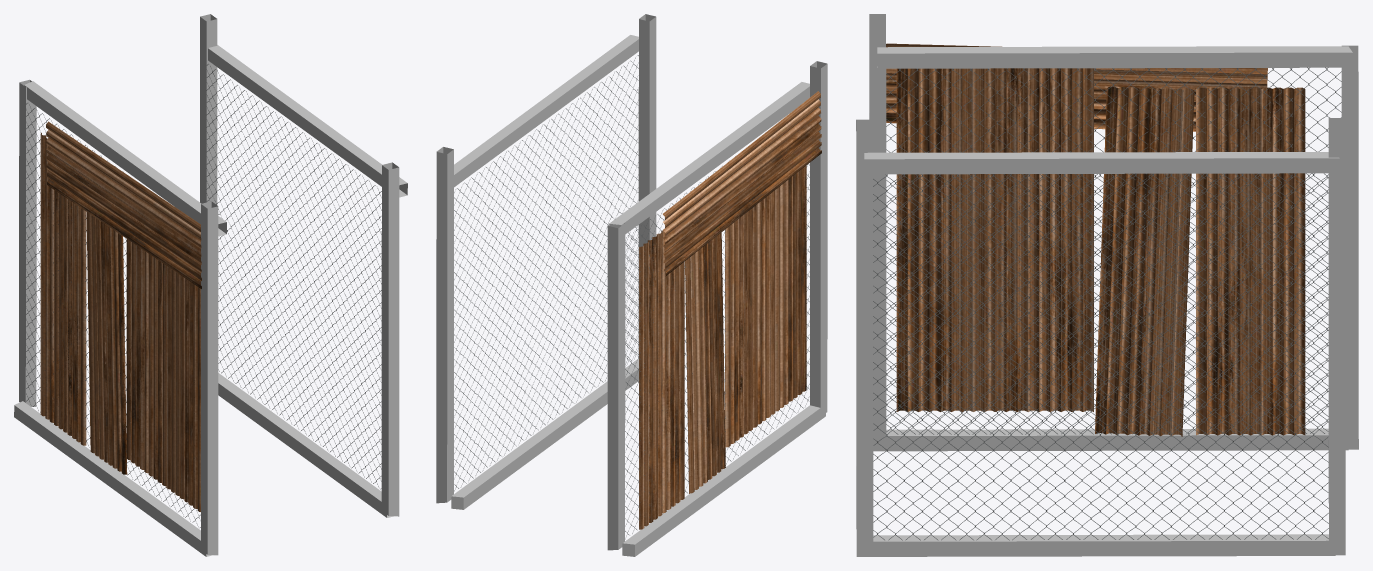
The model's file is Fence.fbx.
3 views of the same model, side by side, from view 1: azimuth 30°, elevation 25°; view 2: azimuth 150°, elevation 25°; view 3: azimuth 270°, elevation 25° (orthographic). The views are drawn at different scales.
Parts seen in each view (by area): view 1: Group1, Group2; view 2: Group1, Group2; view 3: Group1, Group2.
Part boxes in pixels (<box>): Group1: <box>14,79,226,556</box>; Group2: <box>200,14,407,517</box>; Group1: <box>607,61,827,556</box>; Group2: <box>436,14,656,509</box>; Group1: <box>869,14,1358,451</box>; Group2: <box>856,118,1345,556</box>.
Bounding box in the file's own units: 79.72 × 136 × 141.
